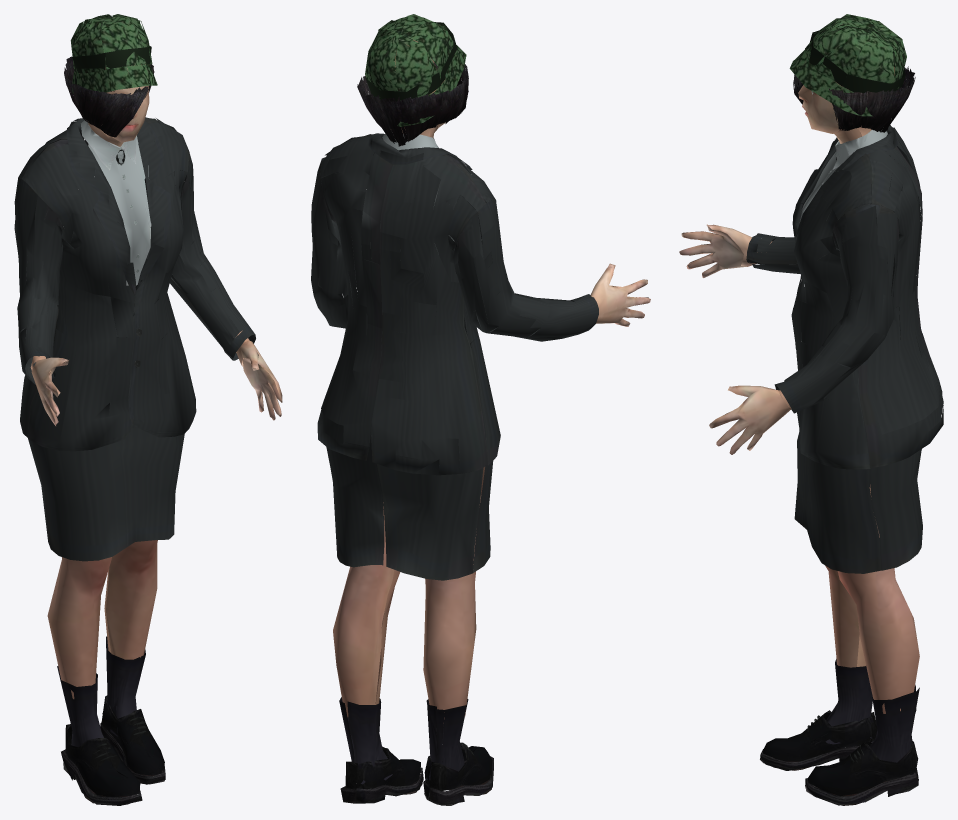
3 renders of one model, left to right at view 1: azimuth 30°, elevation 25°; view 2: azimuth 150°, elevation 25°; view 3: azimuth 270°, elevation 25°, orthographic. The views are drawn at different scales.
Parts seen in each view (by area): view 1: Modell; view 2: Modell; view 3: Modell.
Part boxes in pixels (<box>): Modell: <box>14,14,282,805</box>; Modell: <box>311,14,650,805</box>; Modell: <box>679,14,943,805</box>.
Size of the model in its own units: 0.5843 by 1.68 by 0.5284.
7 materials, 7 textured.
